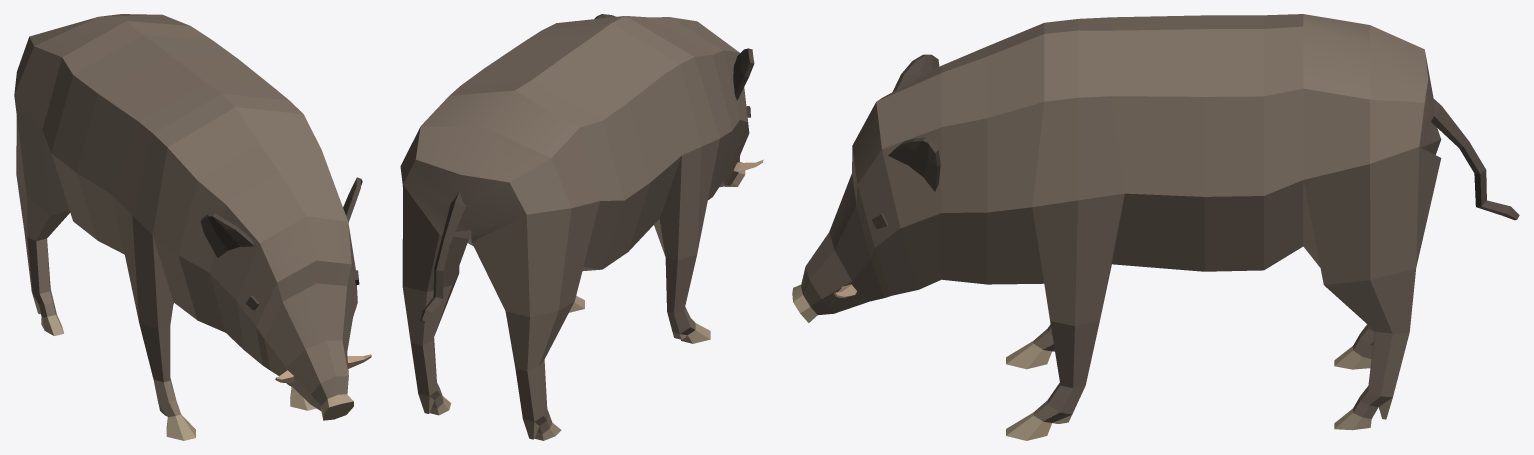
The model's file is Mesh_Boar_2.glb.
3 renders of one model, left to right at view 1: azimuth 30°, elevation 25°; view 2: azimuth 150°, elevation 25°; view 3: azimuth 270°, elevation 25°, orthographic. The views are drawn at different scales.
Visible parts, largest first — view 1: Geo_Boar; view 2: Geo_Boar; view 3: Geo_Boar.
Part boxes in pixels (left/top/right/bottom): Geo_Boar: left=14, top=14, right=371, bottom=440; Geo_Boar: left=400, top=14, right=763, bottom=440; Geo_Boar: left=792, top=14, right=1519, bottom=440.
Size of the model in its own units: 58.24 by 94.19 by 168.
Materials: 1 (1 with a texture image).
